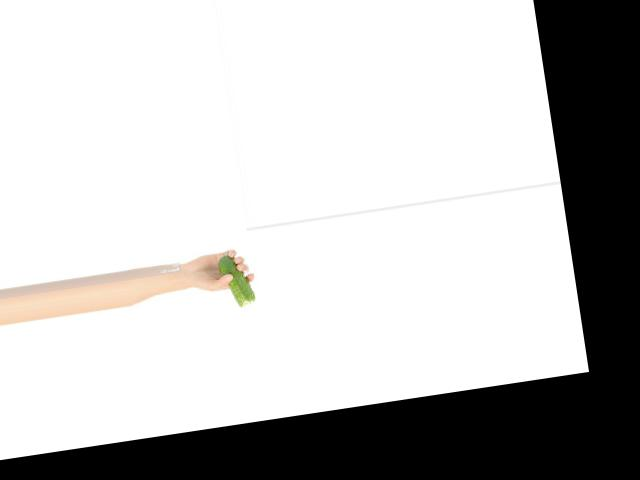cucumber: (216, 251, 255, 309)
